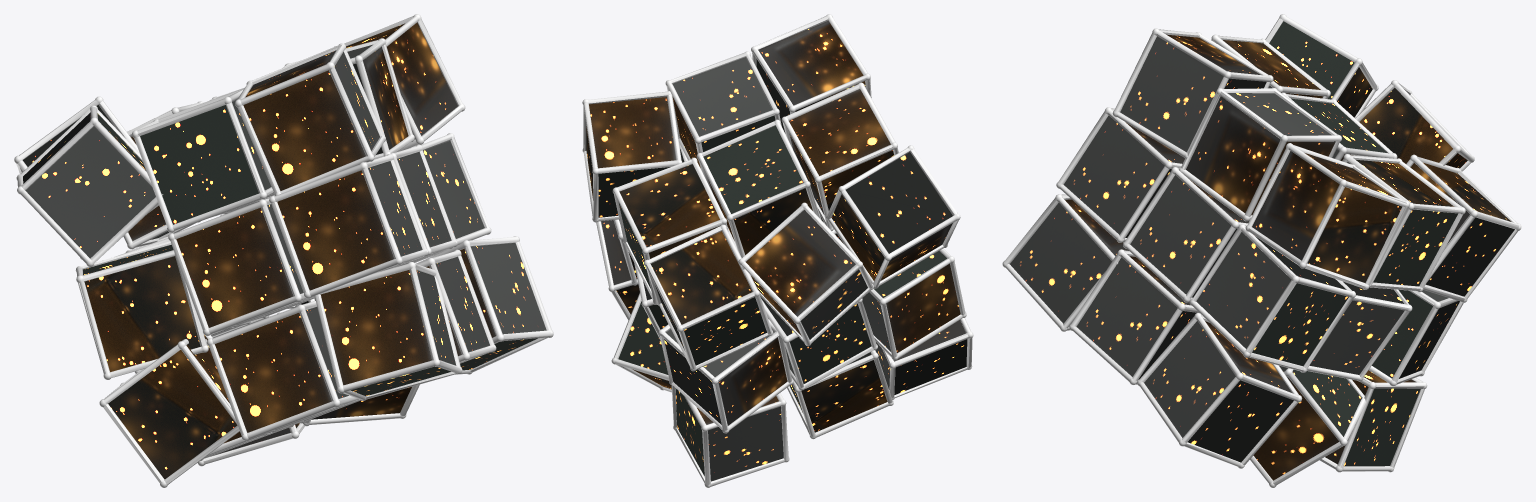
Rendered from Rubik Cube.glb.
3 views of the same model, side by side, from view 1: azimuth 30°, elevation 25°; view 2: azimuth 150°, elevation 25°; view 3: azimuth 270°, elevation 25° (orthographic). The views are drawn at different scales.
Visible parts, largest first — view 1: Rubik.006, Rubik.025, Rubik.015, Rubik.027, Rubik.026, Rubik.007, Rubik.016, Rubik.008, Rubik.017, Rubik.021, Rubik.018, Rubik.022 (+7 smaller); view 2: Rubik.020, Rubik.027, Rubik.024, Rubik.023, Rubik.018, Rubik.026, Rubik.019, Rubik.022, Rubik.011, Rubik.025, Rubik.017, Rubik.002 (+7 smaller); view 3: Rubik.018, Rubik.021, Rubik.009, Rubik.022, Rubik.025, Rubik.003, Rubik.015, Rubik.006, Rubik.012, Rubik.019, Rubik.001, Rubik.020 (+7 smaller).
Part boxes in pixels (x1,y1,x2,y2): Rubik.006: [314, 262, 462, 400]; Rubik.025: [235, 43, 385, 195]; Rubik.015: [269, 154, 428, 298]; Rubik.027: [16, 105, 163, 266]; Rubik.026: [132, 87, 273, 232]; Rubik.007: [206, 301, 358, 440]; Rubik.016: [168, 198, 314, 335]; Rubik.008: [99, 330, 239, 487]; Rubik.017: [75, 241, 208, 379]; Rubik.021: [416, 236, 553, 374]; Rubik.018: [334, 14, 465, 151]; Rubik.022: [283, 38, 414, 159]; Rubik.020: [644, 224, 773, 371]; Rubik.027: [826, 145, 960, 288]; Rubik.024: [738, 202, 873, 346]; Rubik.023: [696, 119, 821, 257]; Rubik.018: [582, 91, 682, 222]; Rubik.026: [781, 82, 898, 230]; Rubik.019: [612, 157, 728, 304]; Rubik.022: [665, 51, 781, 170]; Rubik.011: [658, 319, 793, 433]; Rubik.025: [751, 14, 871, 133]; Rubik.017: [862, 248, 966, 360]; Rubik.002: [671, 385, 789, 487]; Rubik.018: [1245, 143, 1409, 289]; Rubik.021: [1137, 313, 1302, 468]; Rubik.009: [1189, 224, 1355, 372]; Rubik.022: [1179, 88, 1341, 221]; Rubik.025: [1112, 28, 1273, 158]; Rubik.003: [1069, 249, 1199, 384]; Rubik.015: [1056, 107, 1184, 242]; Rubik.006: [1002, 194, 1128, 331]; Rubik.012: [1123, 167, 1249, 302]; Rubik.019: [1342, 154, 1465, 292]; Rubik.001: [1250, 365, 1365, 487]; Rubik.020: [1406, 154, 1521, 302].
Size of the model in its own units: 14.86 by 14.35 by 15.49.
2 materials, 1 textured.
